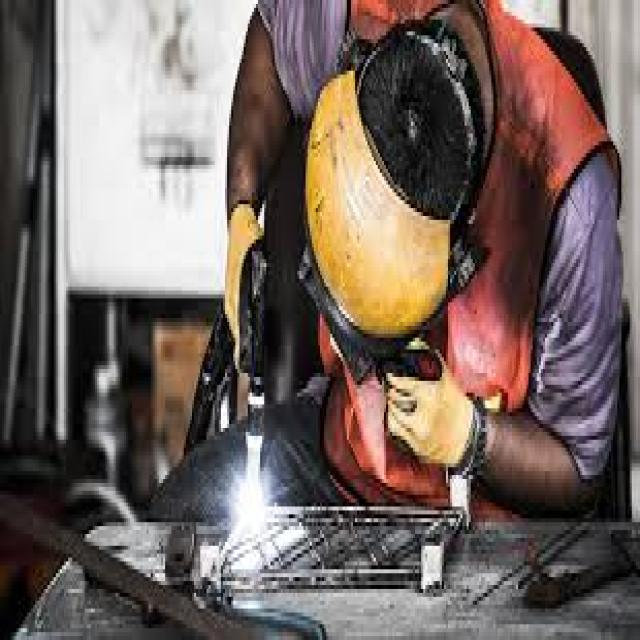welding: (240, 476, 266, 527)
